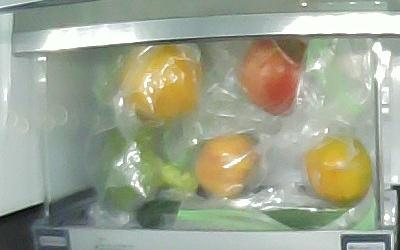apple_vinyl: (238, 38, 308, 116)
broccoli_vinyl: (99, 126, 198, 211)
cucumber_vinyl: (135, 200, 361, 230)
grapefruit_vinyl: (119, 42, 204, 119)
peach_vinyl: (195, 134, 263, 198)
persimmon_vinyl: (306, 137, 371, 206)
